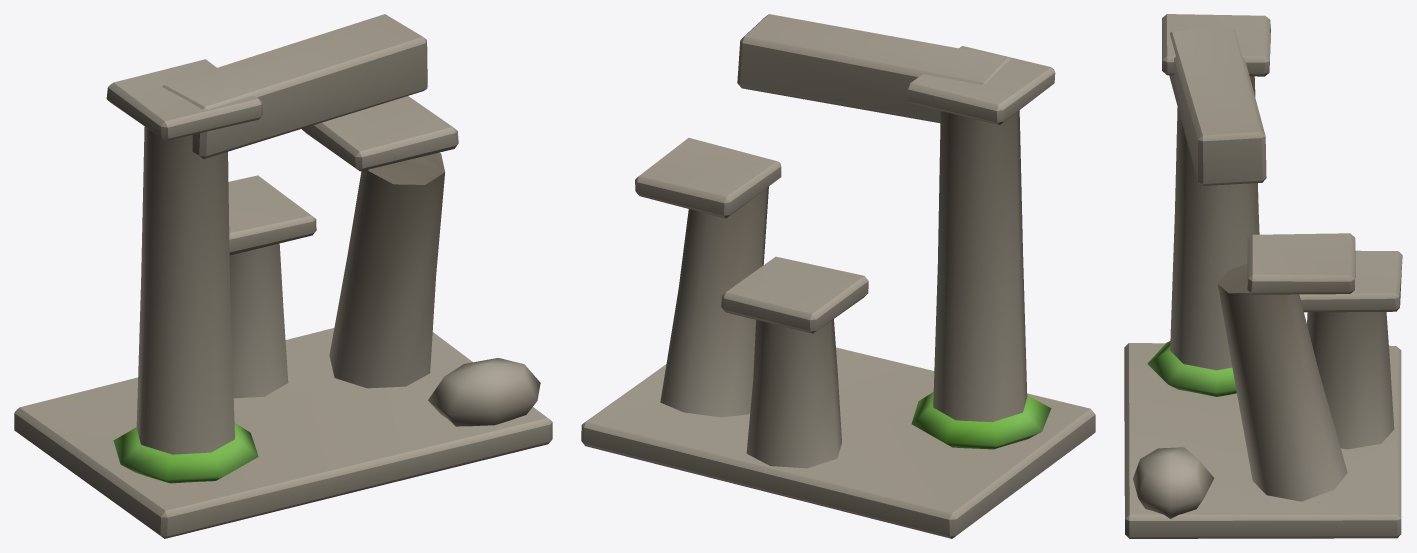
File: world_landmark_pillars_a.fbx
3 views of the same model, side by side, from view 1: azimuth 30°, elevation 25°; view 2: azimuth 150°, elevation 25°; view 3: azimuth 270°, elevation 25° (orthographic). The views are drawn at different scales.
Parts seen in each view (by area): view 1: world_landmark_pillars_a; view 2: world_landmark_pillars_a; view 3: world_landmark_pillars_a.
Boxes of the visible parts, x1,y1,x2,y2 form: world_landmark_pillars_a: (14, 14, 552, 538); world_landmark_pillars_a: (581, 14, 1095, 538); world_landmark_pillars_a: (1124, 14, 1402, 538).
Size of the model in its own units: 554 by 529 by 362.
